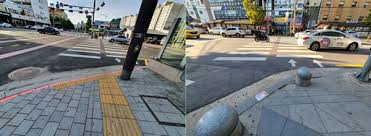guide_blocks: (98, 74, 143, 135), (52, 75, 95, 91)
